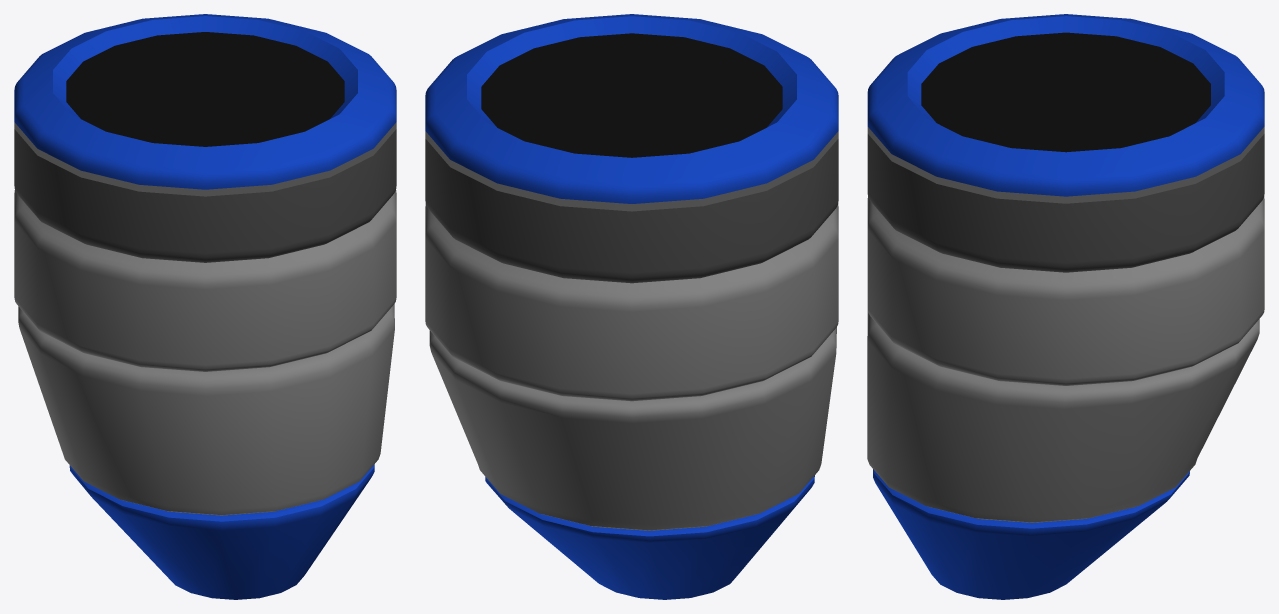
File: Weapon_01_test.fbx
The picture shows the model from 3 angles, left to right: view 1: azimuth 30°, elevation 25°; view 2: azimuth 150°, elevation 25°; view 3: azimuth 270°, elevation 25°; orthographic projection. The views are drawn at different scales.
Visible parts, largest first — view 1: Weapon_01_Head, Weapon_01; view 2: Weapon_01_Head, Weapon_01; view 3: Weapon_01_Head, Weapon_01.
Part boxes in pixels (x1,y1,x2,y2): Weapon_01_Head: [14, 14, 396, 371]; Weapon_01: [18, 304, 394, 599]; Weapon_01_Head: [425, 14, 838, 401]; Weapon_01: [429, 327, 836, 599]; Weapon_01_Head: [867, 14, 1264, 385]; Weapon_01: [867, 310, 1259, 599].
Bounding box in the file's own units: 72.52 × 96.24 × 71.47.
